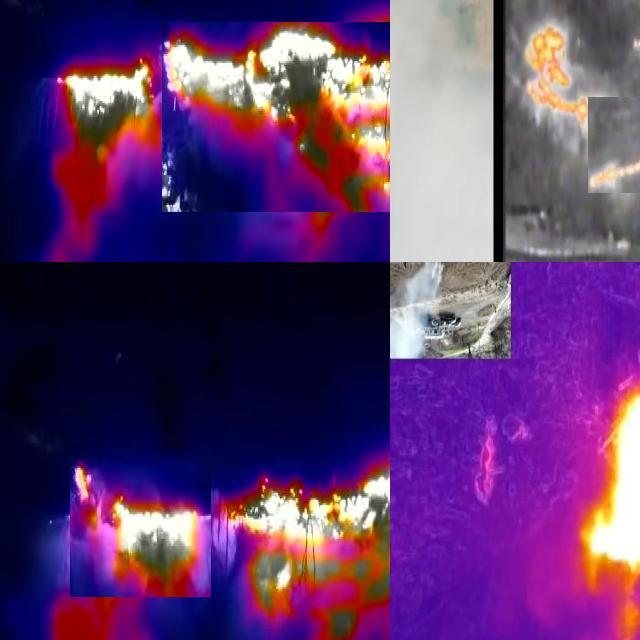fire: (163, 22, 391, 212), (214, 460, 391, 640), (71, 460, 212, 598), (57, 63, 159, 199), (588, 389, 640, 579), (525, 21, 592, 124), (589, 98, 640, 194)
